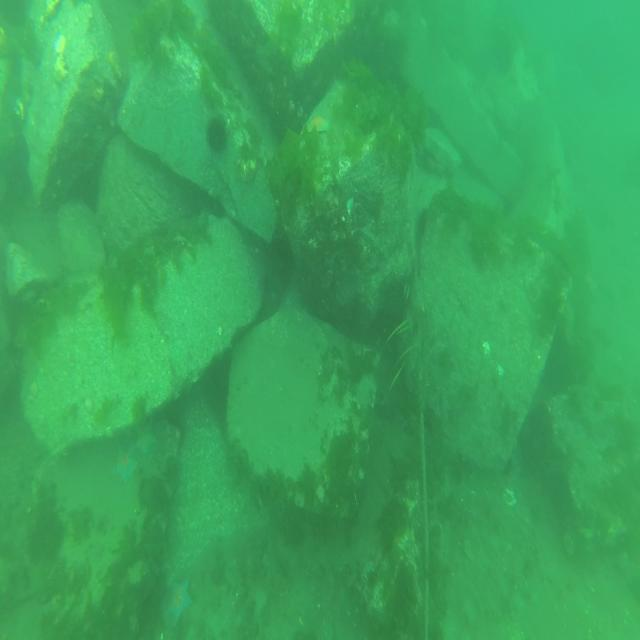echinus: (204, 115, 228, 153), (422, 147, 438, 175), (210, 196, 226, 219), (417, 208, 428, 235), (503, 456, 513, 476)
holothurian: (198, 205, 212, 224)
starfish: (165, 575, 193, 626), (112, 443, 140, 485), (133, 419, 158, 458), (306, 116, 331, 134)
